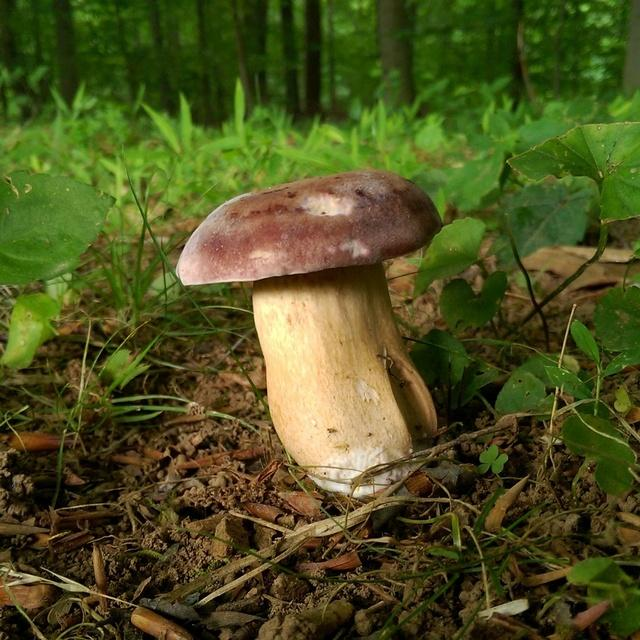poisonous_mushroom: (174, 167, 444, 501)
